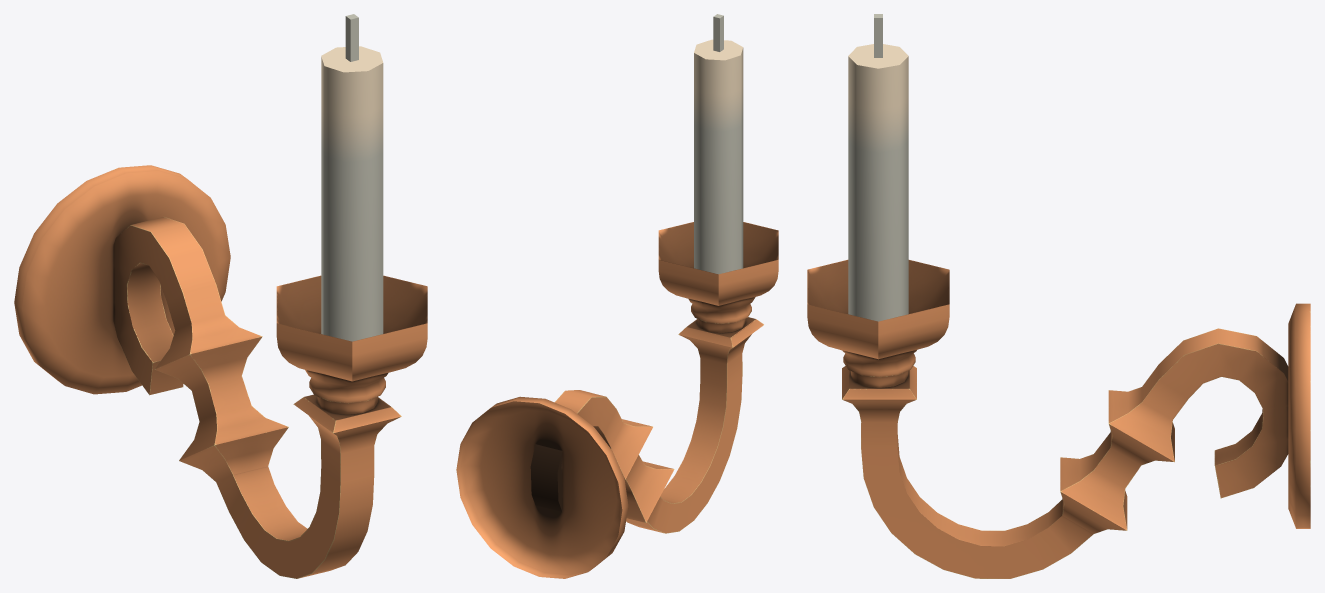
Rendered from BgMD_WallCandle.fbx.
The picture shows the model from 3 angles, left to right: view 1: azimuth 30°, elevation 25°; view 2: azimuth 150°, elevation 25°; view 3: azimuth 270°, elevation 25°; orthographic projection. The views are drawn at different scales.
Parts seen in each view (by area): view 1: BgMD_WallCandle04, BgMD_WallCandle01, BgMD_Candle2, BgMD_WallCandle02, BgMD_WallCandle03, BgMD_Candle1; view 2: BgMD_WallCandle01, BgMD_WallCandle04, BgMD_Candle2, BgMD_WallCandle02, BgMD_WallCandle03; view 3: BgMD_WallCandle04, BgMD_Candle2, BgMD_WallCandle02, BgMD_WallCandle01, BgMD_WallCandle03.
Boxes of the visible parts, x1,y1,x2,y2 form: BgMD_WallCandle04: [113, 217, 401, 578]; BgMD_WallCandle01: [14, 165, 230, 394]; BgMD_Candle2: [321, 46, 383, 341]; BgMD_WallCandle02: [276, 275, 427, 381]; BgMD_WallCandle03: [305, 370, 388, 414]; BgMD_Candle1: [345, 14, 358, 61]; BgMD_WallCandle01: [456, 396, 628, 578]; BgMD_WallCandle04: [530, 317, 763, 533]; BgMD_Candle2: [694, 39, 743, 274]; BgMD_WallCandle02: [658, 222, 778, 305]; BgMD_WallCandle03: [688, 297, 755, 333]; BgMD_WallCandle04: [842, 328, 1288, 578]; BgMD_Candle2: [848, 44, 908, 321]; BgMD_WallCandle02: [807, 259, 949, 359]; BgMD_WallCandle01: [1288, 303, 1310, 528]; BgMD_WallCandle03: [842, 350, 916, 387].
Bounding box in the file's own units: 30 × 81.25 × 66.5.
